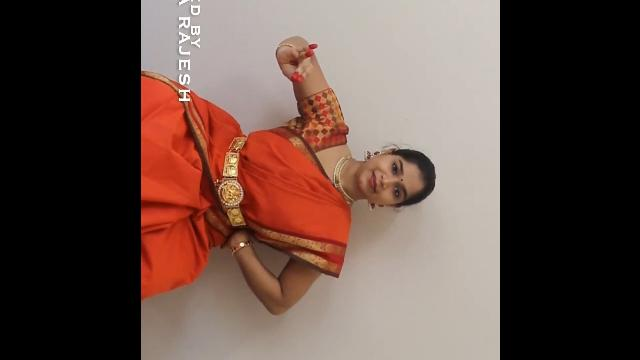katak: (234, 34, 352, 90)
